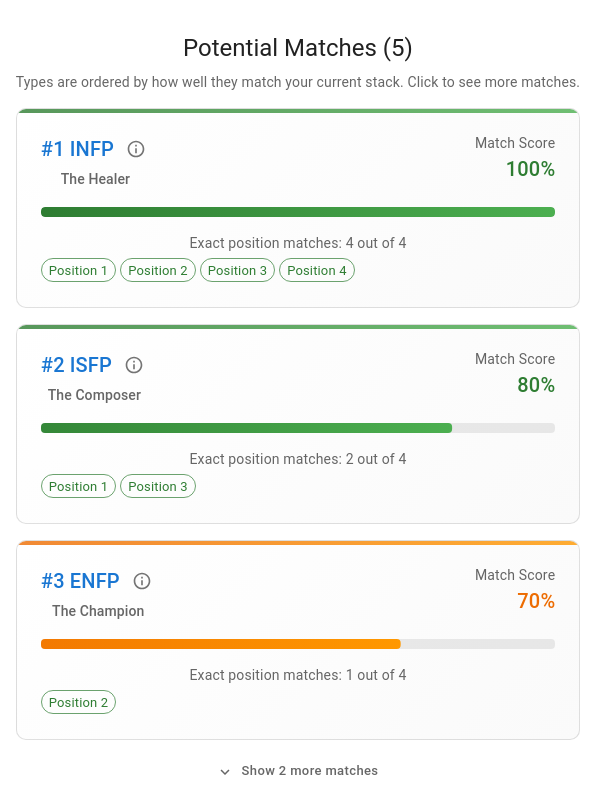
MatchingResults › should expand to show more matches when expand button clicked
Click the button "Show 2 more matches": [298, 772] box [213,756,383,787]
(page scrolled)
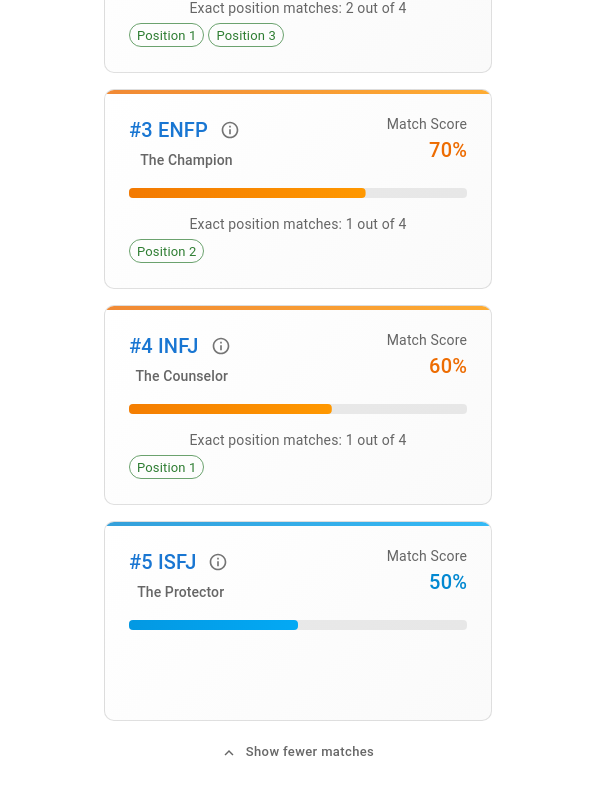
Result: the heading "#4 INFJ" is shown at [129,330,199,362]
Result: the heading "#5 ISFJ" is shown at [129,546,196,578]
Result: the button "Show fewer matches" is shown at [217,737,379,768]
